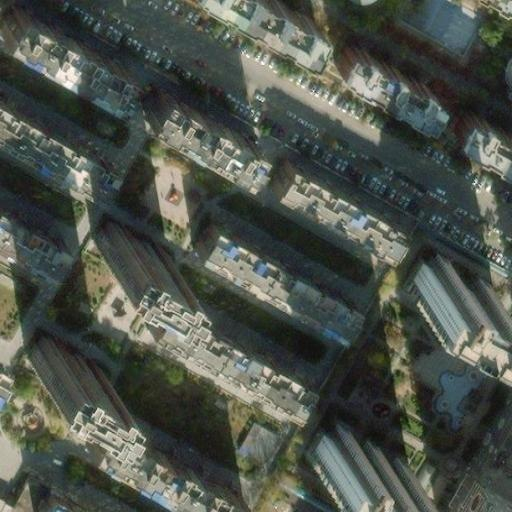building: (136, 295, 300, 409), (193, 223, 353, 332), (85, 425, 245, 512), (266, 161, 399, 256), (0, 108, 111, 202), (438, 377, 512, 512), (153, 97, 269, 182), (312, 424, 421, 505), (325, 35, 432, 114), (400, 252, 490, 329), (414, 242, 501, 305), (201, 0, 306, 50), (388, 0, 487, 51), (36, 333, 114, 396), (95, 222, 172, 285), (0, 214, 68, 280), (444, 103, 512, 167), (1, 473, 91, 512), (451, 480, 512, 512), (230, 416, 273, 461), (499, 51, 512, 101)
